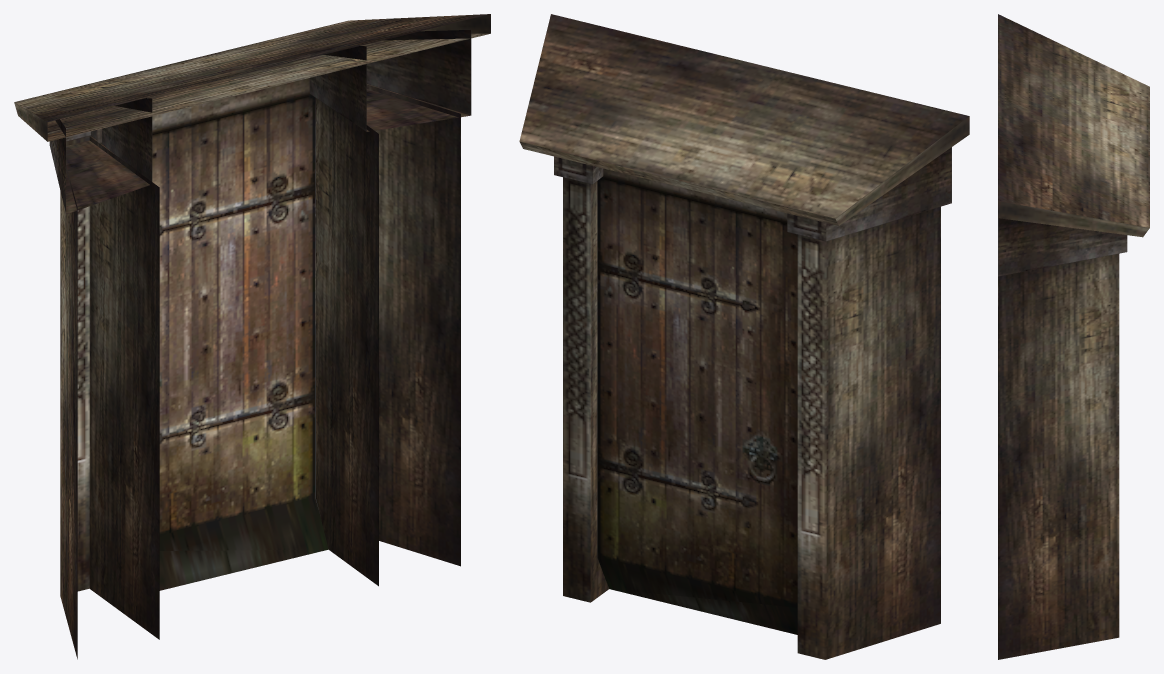
The model's file is loc2_18.glb.
3 views of the same model, side by side, from view 1: azimuth 30°, elevation 25°; view 2: azimuth 150°, elevation 25°; view 3: azimuth 270°, elevation 25° (orthographic). The views are drawn at different scales.
Visible parts, largest first — view 1: loc2_18; view 2: loc2_18; view 3: loc2_18.
Boxes of the visible parts, x1,y1,x2,y2 form: loc2_18: (14,14,490,659); loc2_18: (519,14,969,659); loc2_18: (998,14,1149,659).
Bounding box in the file's own units: 3.03 × 3.56 × 1.04.
1 material, 1 textured.
